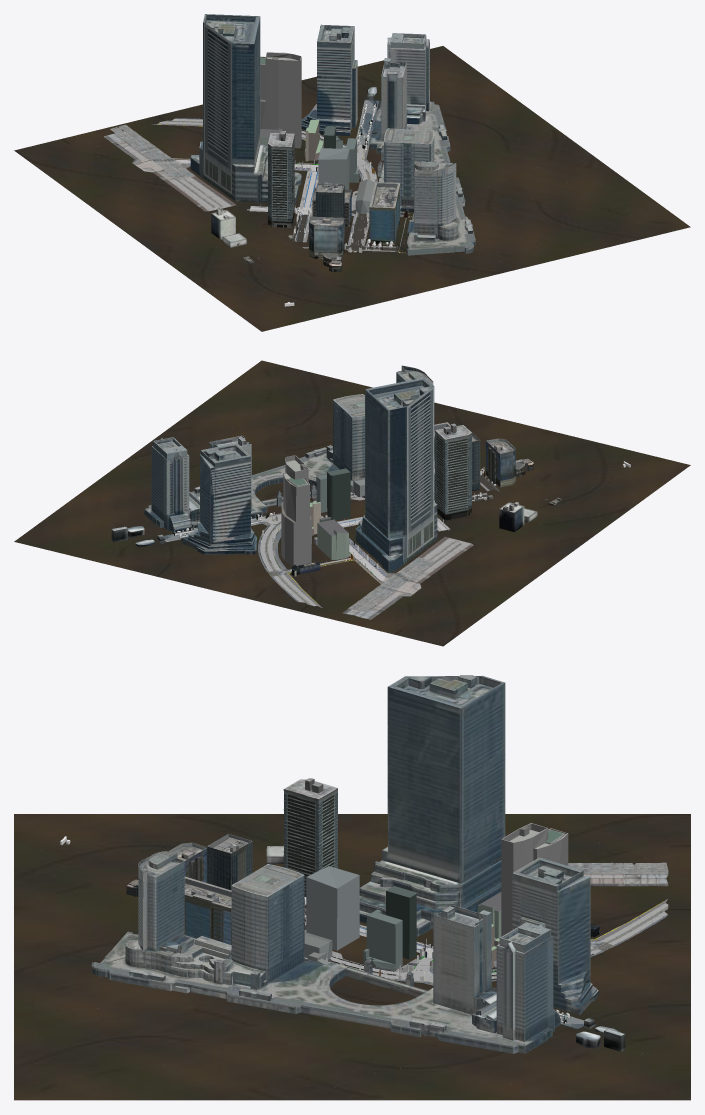
File: takeshiba.glb
3 renders of one model, top to bottom at view 1: azimuth 30°, elevation 25°; view 2: azimuth 150°, elevation 25°; view 3: azimuth 270°, elevation 25°, orthographic. The views are drawn at different scales.
Parts seen in each view (by area): view 1: Original_Ground_Underlay, Buildings_003_Mesh_0, Buildings_004_Mesh_0, Buildings_000_Mesh_0, Buildings_005_Mesh_0, Buildings_002_Mesh_0, Buildings_001_Mesh_0, Roads_014_Mesh_0, Buildings_006_Mesh_0, Roads_007_Mesh_0, Roads_008_Mesh_0, Roads_013_Mesh_0 (+2 smaller); view 2: Original_Ground_Underlay, Buildings_003_Mesh_0, Buildings_000_Mesh_0, Buildings_005_Mesh_0, Buildings_002_Mesh_0, Buildings_004_Mesh_0, Roads_014_Mesh_0, Roads_009_Mesh_0, Buildings_001_Mesh_0, Buildings_006_Mesh_0, Roads_007_Mesh_0; view 3: Original_Ground_Underlay, Buildings_003_Mesh_0, Buildings_000_Mesh_0, Buildings_004_Mesh_0, Buildings_001_Mesh_0, Buildings_005_Mesh_0, Buildings_002_Mesh_0, Roads_009_Mesh_0, Buildings_006_Mesh_0, Roads_007_Mesh_0, Roads_014_Mesh_0, Roads_010_Mesh_0.
Boxes of the visible parts, left/top/right/bottom form: Original_Ground_Underlay: left=14, top=46, right=690, bottom=331; Buildings_003_Mesh_0: left=190, top=14, right=382, bottom=203; Buildings_004_Mesh_0: left=312, top=128, right=458, bottom=244; Buildings_000_Mesh_0: left=301, top=24, right=447, bottom=178; Buildings_005_Mesh_0: left=211, top=130, right=344, bottom=264; Buildings_002_Mesh_0: left=260, top=52, right=323, bottom=161; Buildings_001_Mesh_0: left=369, top=101, right=475, bottom=255; Roads_014_Mesh_0: left=104, top=131, right=236, bottom=211; Buildings_006_Mesh_0: left=284, top=216, right=344, bottom=306; Roads_007_Mesh_0: left=110, top=124, right=195, bottom=179; Roads_008_Mesh_0: left=356, top=100, right=379, bottom=170; Roads_013_Mesh_0: left=346, top=216, right=396, bottom=251; Original_Ground_Underlay: left=14, top=360, right=690, bottom=646; Buildings_003_Mesh_0: left=310, top=377, right=437, bottom=572; Buildings_000_Mesh_0: left=111, top=435, right=316, bottom=554; Buildings_005_Mesh_0: left=435, top=423, right=562, bottom=532; Buildings_002_Mesh_0: left=281, top=455, right=349, bottom=576; Buildings_004_Mesh_0: left=326, top=365, right=450, bottom=500; Roads_014_Mesh_0: left=342, top=536, right=473, bottom=619; Roads_009_Mesh_0: left=258, top=523, right=369, bottom=607; Buildings_001_Mesh_0: left=144, top=447, right=351, bottom=530; Buildings_006_Mesh_0: left=485, top=438, right=630, bottom=487; Roads_007_Mesh_0: left=348, top=557, right=434, bottom=611; Original_Ground_Underlay: left=14, top=814, right=690, bottom=1100; Buildings_003_Mesh_0: left=359, top=675, right=505, bottom=973; Buildings_000_Mesh_0: left=344, top=857, right=625, bottom=1051; Buildings_004_Mesh_0: left=125, top=851, right=359, bottom=989; Buildings_001_Mesh_0: left=91, top=931, right=552, bottom=1053; Buildings_005_Mesh_0: left=206, top=778, right=337, bottom=905; Buildings_002_Mesh_0: left=478, top=823, right=599, bottom=968; Roads_009_Mesh_0: left=422, top=899, right=668, bottom=981; Buildings_006_Mesh_0: left=60, top=836, right=206, bottom=896; Roads_007_Mesh_0: left=568, top=862, right=668, bottom=874; Roads_014_Mesh_0: left=578, top=867, right=668, bottom=886; Roads_010_Mesh_0: left=328, top=951, right=433, bottom=982.
Size of what is drawn, in the model's own units: 600 by 220 by 600.
Materials: 132 (123 with a texture image).
